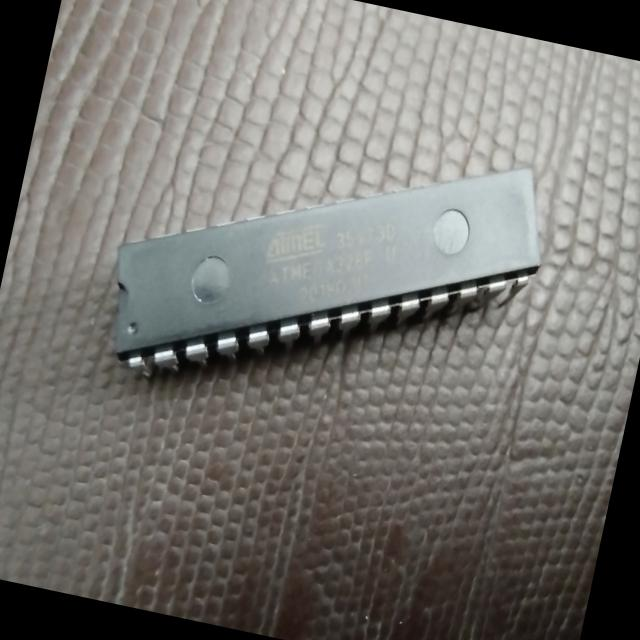atmega: (88, 83, 562, 455)
